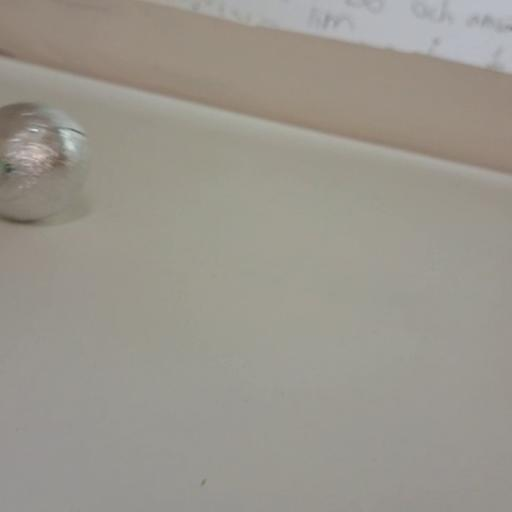alive: (0, 102, 89, 222)
